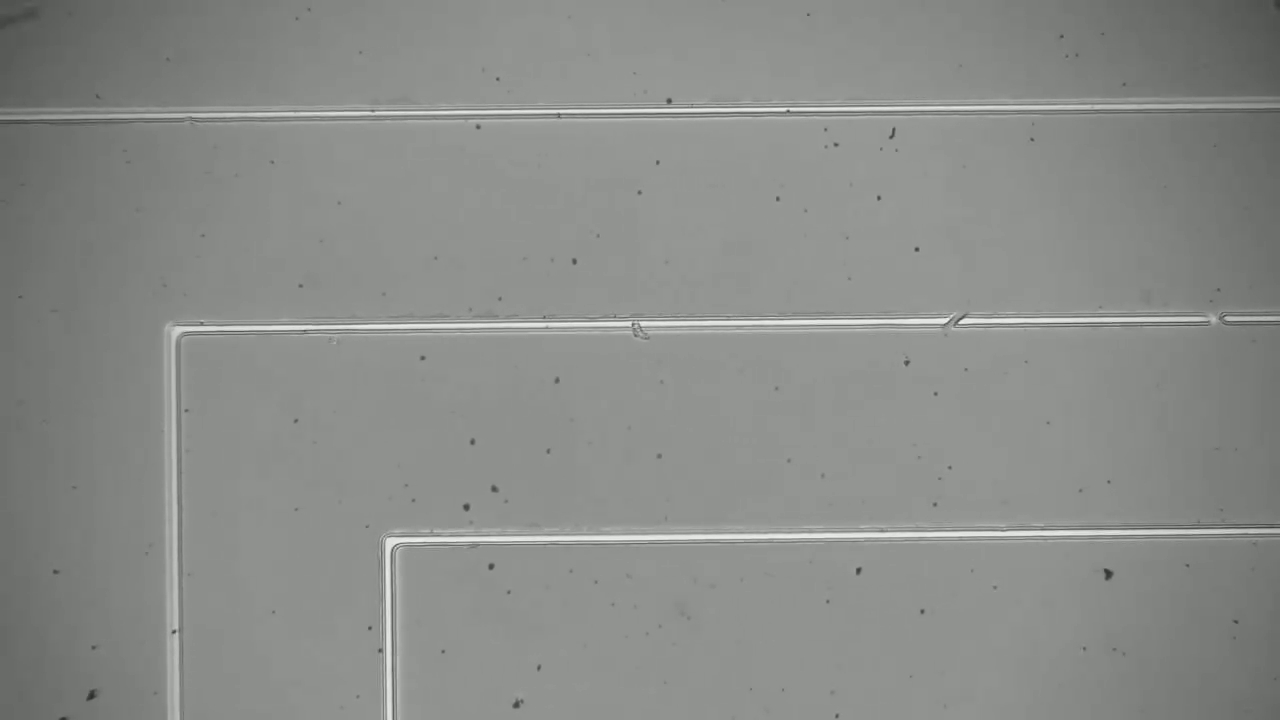open: (1194, 295, 1239, 340), (937, 297, 978, 341)
stains_enbedded: (620, 307, 656, 351)
